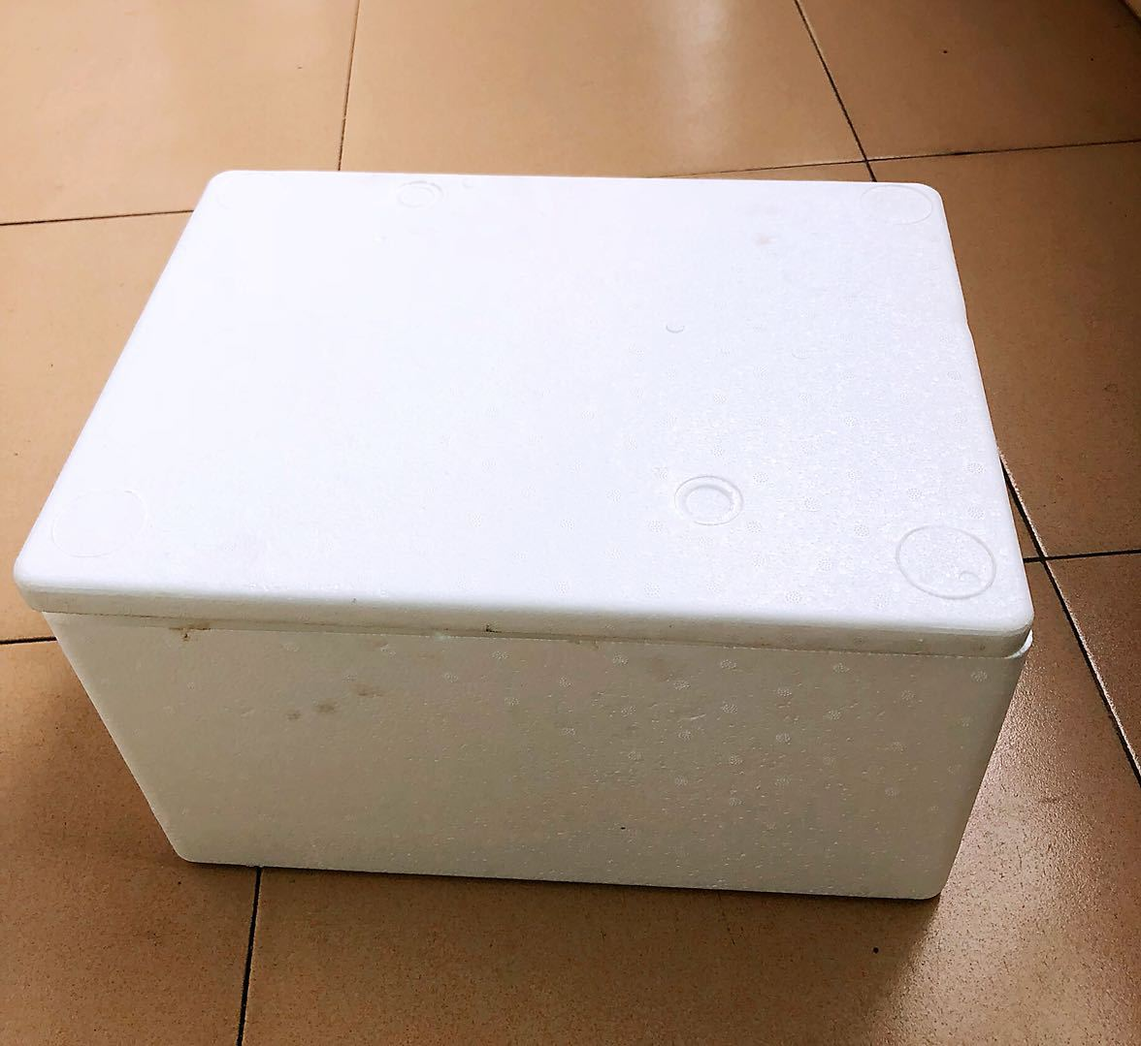Boxes: (16, 172, 1032, 899)
